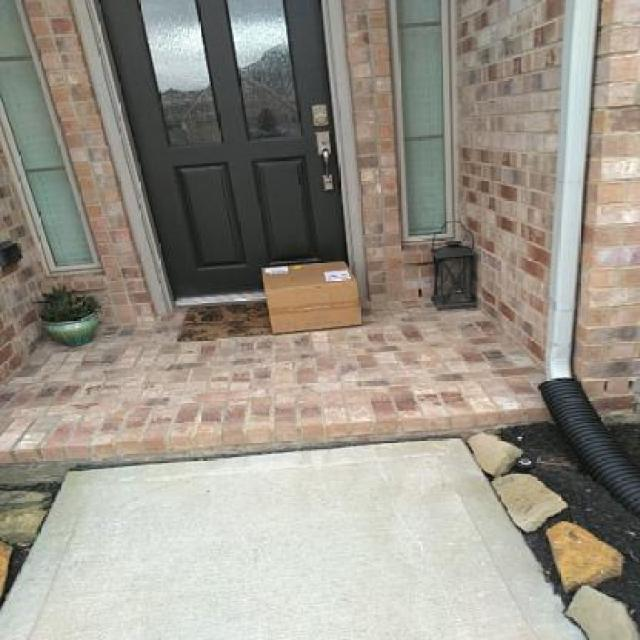cardboxes: (255, 262, 371, 336)
